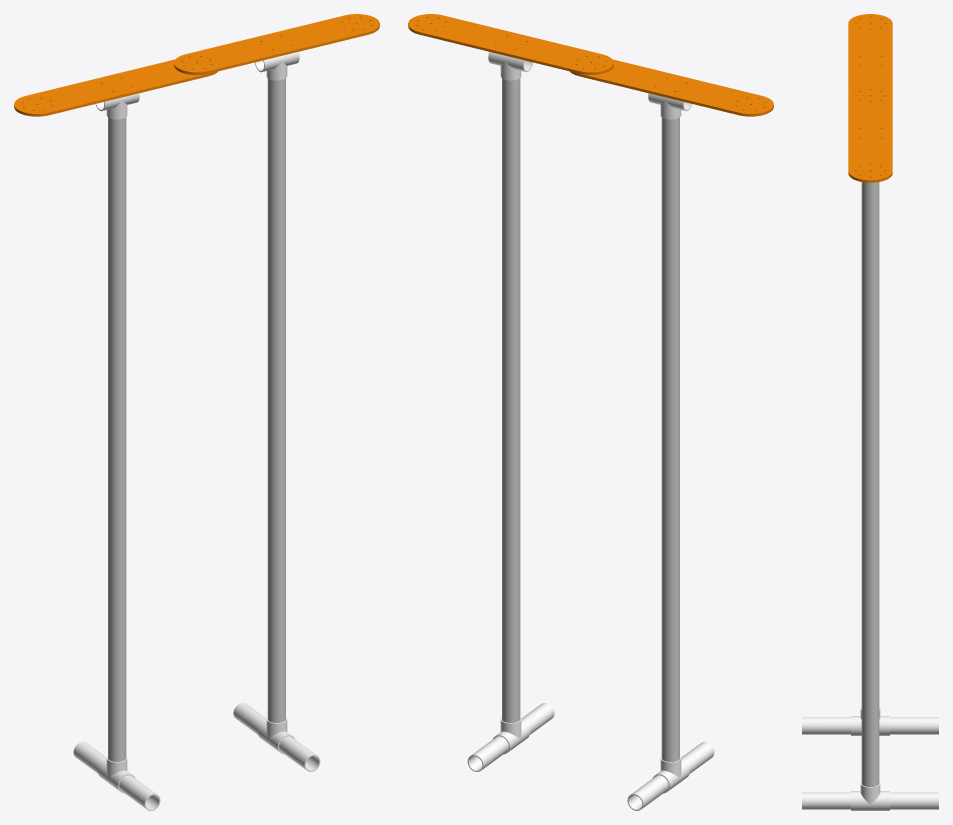
Rendered from path_straight.fbx.
3 views of the same model, side by side, from view 1: azimuth 30°, elevation 25°; view 2: azimuth 150°, elevation 25°; view 3: azimuth 270°, elevation 25° (orthographic). The views are drawn at different scales.
Parts seen in each view (by area): view 1: Body_1_4, Body_1_11, Body_1, Body_1_2, Body_1_7, Body_1_9, Body_1_12, Body_1_5, Body_1_8; view 2: Body_1_4, Body_1_11, Body_1, Body_1_2, Body_1_6, Body_1_10, Body_1_12, Body_1_5, Body_1_8; view 3: Body_1_11, Body_1, Body_1_2, Body_1_8, Body_1_6, Body_1_7, Body_1_9, Body_1_10, Body_1_5.
Part boxes in pixels (<box>): Body_1_4: <box>108,117,126,761</box>; Body_1_11: <box>267,78,285,722</box>; Body_1: <box>174,14,379,74</box>; Body_1_2: <box>14,59,217,116</box>; Body_1_7: <box>119,775,160,810</box>; Body_1_9: <box>279,736,320,771</box>; Body_1_12: <box>254,52,299,80</box>; Body_1_5: <box>98,756,135,793</box>; Body_1_8: <box>258,717,295,754</box>; Body_1_4: <box>661,117,679,761</box>; Body_1_11: <box>502,78,520,722</box>; Body_1: <box>408,14,613,74</box>; Body_1_2: <box>570,59,773,116</box>; Body_1_6: <box>627,775,668,810</box>; Body_1_10: <box>467,736,508,771</box>; Body_1_12: <box>488,52,533,80</box>; Body_1_5: <box>652,756,689,793</box>; Body_1_8: <box>492,717,529,754</box>; Body_1_11: <box>861,182,879,786</box>; Body_1: <box>848,86,892,182</box>; Body_1_2: <box>848,14,892,94</box>; Body_1_8: <box>851,782,889,810</box>; Body_1_6: <box>890,717,938,734</box>; Body_1_7: <box>802,717,850,734</box>; Body_1_9: <box>802,792,850,809</box>; Body_1_10: <box>890,792,938,809</box>; Body_1_5: <box>851,707,889,735</box>.
Bounding box in the file's own units: 1.37 × 0.4699 × 2.56.
